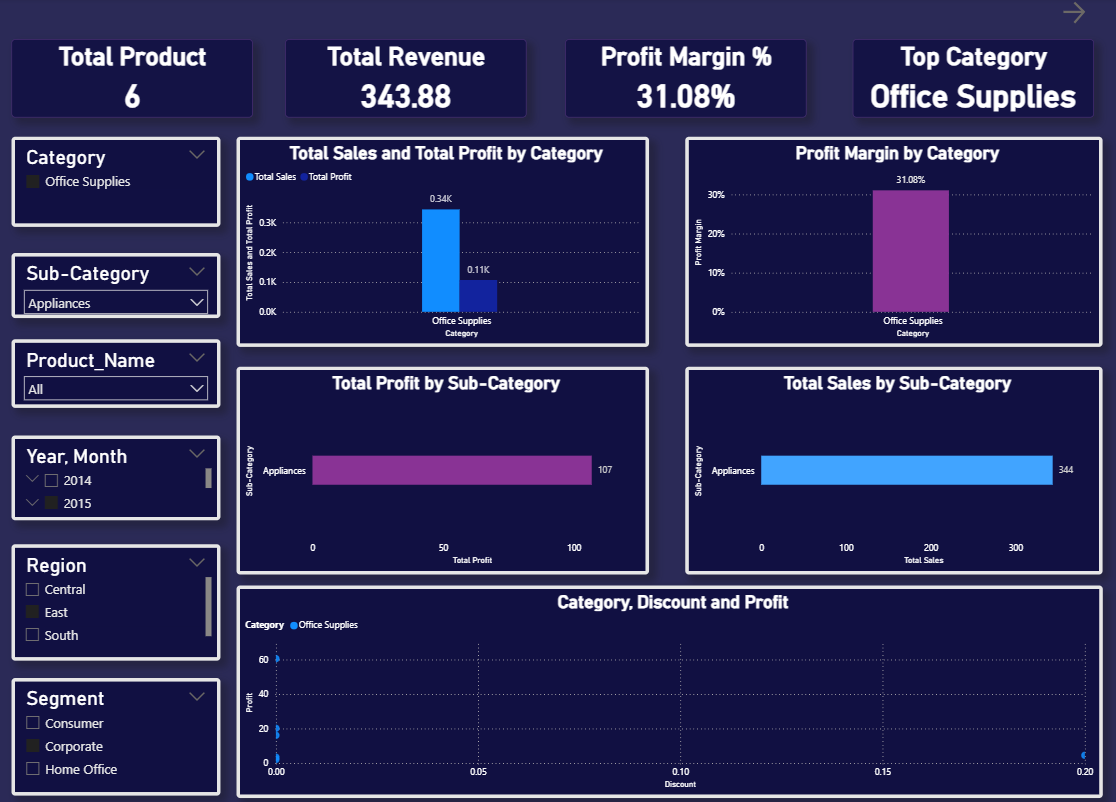

What the dashboard file says about the page in this screenshot:
{"tool":"powerbi","page":{"name":"Product Centric Dashboard","canvas":[1500,1080],"ordinal":2},"visuals":[{"type":"card","title":"Total Product","fields":{"Values":["Count(Table2.Product_Name)"]},"box":[16.7,55,323.3,105],"z":0},{"type":"card","title":"Total Revenue","fields":{"Values":["Table2.Total Sales"]},"box":[383.3,55,323.3,105],"z":1000},{"type":"card","title":"Profit Margin %","fields":{"Values":["Table2.Profit Margin"]},"box":[758.3,55,323.3,105],"z":2000},{"type":"card","title":"Top Category","fields":{"Values":["Table2.Top Category"]},"box":[1143.3,55,323.3,105],"z":3000},{"type":"clusteredColumnChart","fields":{"Category":["Table2.Category"],"Y":["Table2.Total Sales","Table2.Total Profit"]},"box":[318.2,185.9,552.7,281.4],"z":4000},{"type":"clusteredColumnChart","fields":{"Category":["Table2.Category"],"Y":["Table2.Profit Margin"]},"box":[919.5,185.9,559.4,281.4],"z":5000},{"type":"clusteredBarChart","fields":{"Category":["Table2.Sub-Category"],"Y":["Table2.Total Profit"]},"box":[318.2,494.1,552.7,278],"z":6000},{"type":"clusteredBarChart","fields":{"Category":["Table2.Sub-Category"],"Y":["Table2.Total Sales"]},"box":[919.5,494.1,559.4,278],"z":7000},{"type":"scatterChart","fields":{"X":["Table2.Discount"],"Y":["Table2.Profit"],"Series":["Table2.Category"]},"box":[318.2,787.2,1160.7,284.7],"z":8000},{"type":"slicer","fields":{"Values":["Table2.Category"]},"box":[16.7,185.9,279.7,120.6],"z":9000},{"type":"slicer","fields":{"Values":["Table2.Sub-Category"]},"box":[16.7,341.7,279.7,87.1],"z":10000},{"type":"slicer","fields":{"Values":["Table2.Product_Name"]},"box":[16.7,457.3,279.7,92.1],"z":11000},{"type":"slicer","fields":{"Values":["Table2.Order_Date.Variation.Date Hierarchy.Year","Table2.Order_Date.Variation.Date Hierarchy.Month"]},"box":[16.7,586.2,279.7,113.9],"z":12000},{"type":"slicer","fields":{"Values":["Table2.Region"]},"box":[16.7,732,279.7,155.8],"z":13000},{"type":"slicer","fields":{"Values":["Table2.Segment"]},"box":[16.7,911.2,279.7,157.4],"z":14000},{"type":"actionButton","box":[1421.1,0,51.2,39.2],"z":15000}]}

Visuals, with their boxes in screenshot pixels (x1, y1, x2, y2), scaled from the page's 1500x1080 canvas onto the 1116x802 screenshot:
"Total Product" card: box(12, 41, 253, 119)
"Total Revenue" card: box(285, 41, 526, 119)
"Profit Margin %" card: box(564, 41, 805, 119)
"Top Category" card: box(851, 41, 1091, 119)
clusteredColumnChart - Table2.Category x Table2.Total Sales: box(237, 138, 648, 347)
clusteredColumnChart - Table2.Category x Table2.Profit Margin: box(684, 138, 1100, 347)
clusteredBarChart - Table2.Sub-Category x Table2.Total Profit: box(237, 367, 648, 573)
clusteredBarChart - Table2.Sub-Category x Table2.Total Sales: box(684, 367, 1100, 573)
scatterChart - Table2.Discount x Table2.Profit: box(237, 585, 1100, 796)
slicer - Table2.Category: box(12, 138, 221, 228)
slicer - Table2.Sub-Category: box(12, 254, 221, 318)
slicer - Table2.Product_Name: box(12, 340, 221, 408)
slicer - Table2.Order_Date.Variation.Date Hierarchy.Year x Table2.Order_Date.Variation.Date Hierarchy.Month: box(12, 435, 221, 520)
slicer - Table2.Region: box(12, 544, 221, 659)
slicer - Table2.Segment: box(12, 677, 221, 794)
actionButton: box(1057, 0, 1095, 29)
